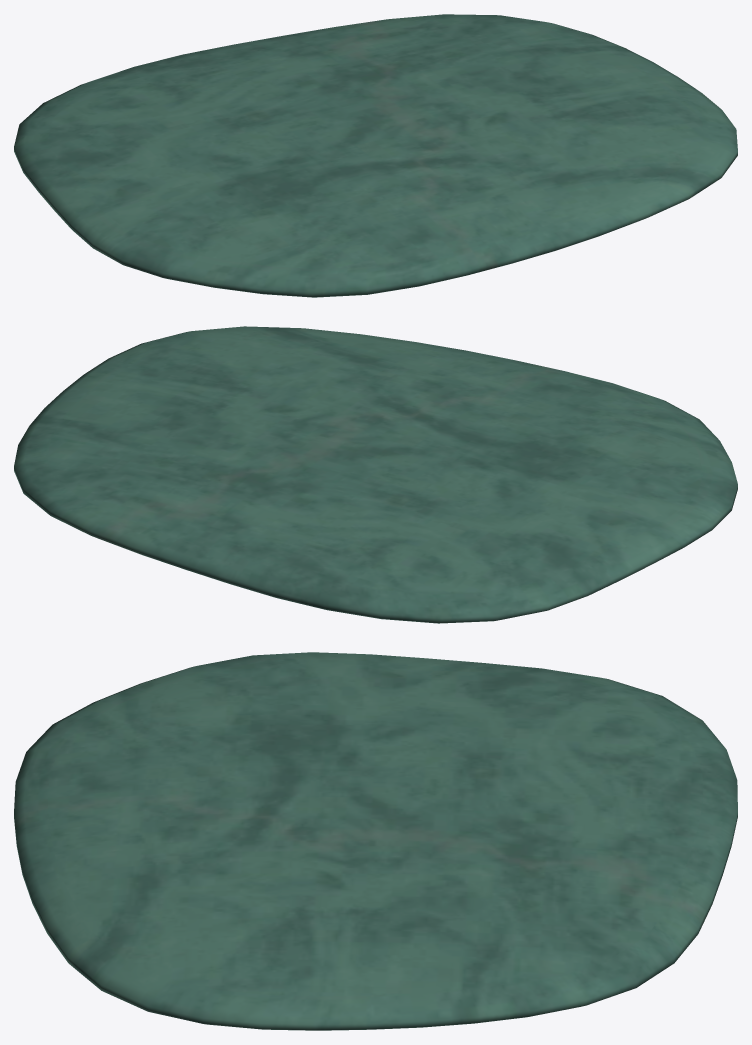
File: jade_river_flat_04.glb
3 renders of one model, top to bottom at view 1: azimuth 30°, elevation 25°; view 2: azimuth 150°, elevation 25°; view 3: azimuth 270°, elevation 25°, orthographic. The views are drawn at different scales.
Visible parts, largest first — view 1: jade_river_flat_04; view 2: jade_river_flat_04; view 3: jade_river_flat_04.
Boxes of the visible parts, x1,y1,x2,y2 form: jade_river_flat_04: (14, 14, 737, 297); jade_river_flat_04: (14, 326, 737, 623); jade_river_flat_04: (14, 652, 737, 1030).
Bounding box in the file's own units: 0.0909 × 0.00651 × 0.0749.
1 material, 1 textured.
